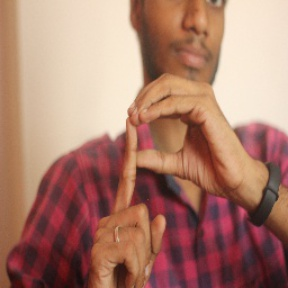P: (87, 74, 246, 280)
